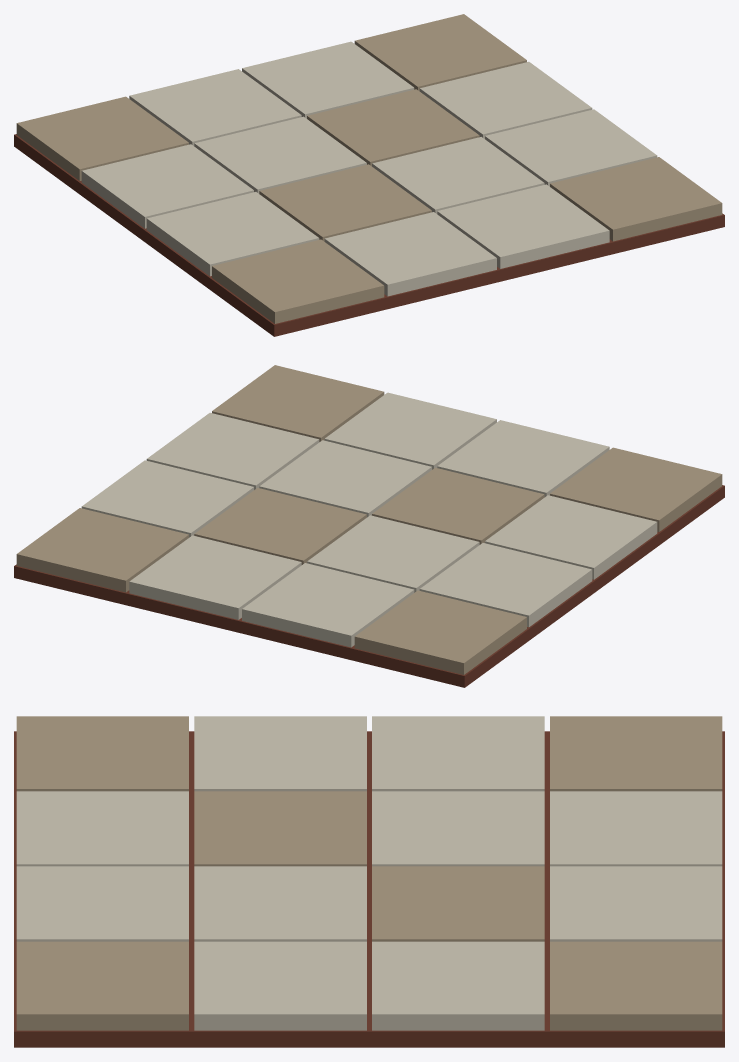
The model's file is FloorFlag__Plain.fbx.
3 views of the same model, one above another, from view 1: azimuth 30°, elevation 25°; view 2: azimuth 150°, elevation 25°; view 3: azimuth 270°, elevation 25° (orthographic). The views are drawn at different scales.
Parts seen in each view (by area): view 1: FloorFlag__Plain; view 2: FloorFlag__Plain; view 3: FloorFlag__Plain.
Part boxes in pixels (<box>): FloorFlag__Plain: <box>14,14,724,336</box>; FloorFlag__Plain: <box>14,365,724,687</box>; FloorFlag__Plain: <box>14,716,724,1047</box>.
Bounding box in the file's own units: 400 × 20 × 400.
1 material, 1 textured.
